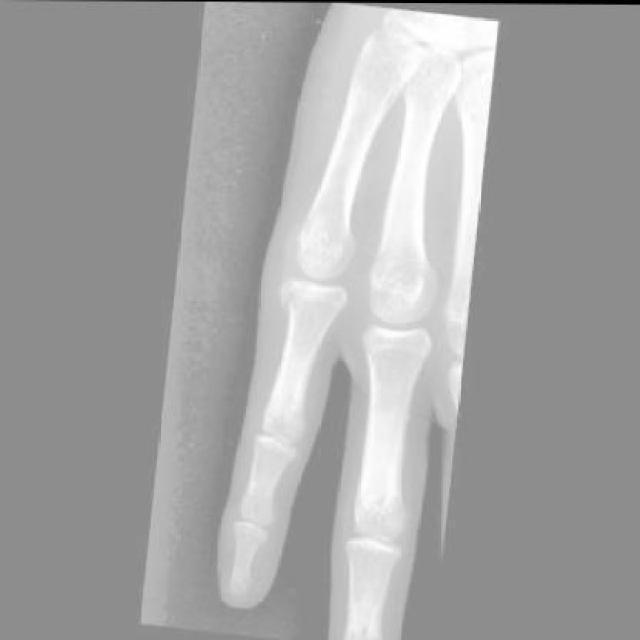Fracture: (279, 285, 345, 326)
